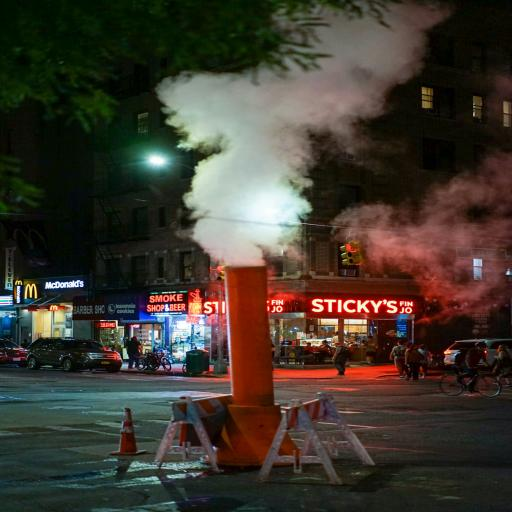smoke: (157, 4, 444, 265), (329, 157, 512, 277)
